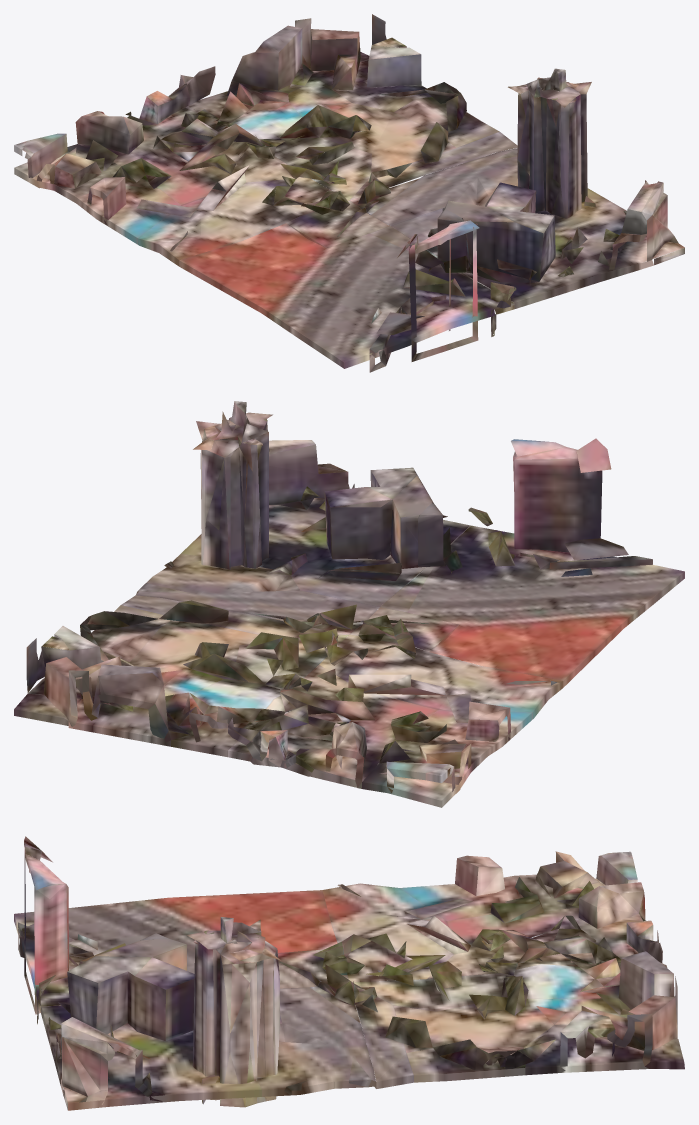
The picture shows the model from 3 angles, top to bottom: view 1: azimuth 30°, elevation 25°; view 2: azimuth 150°, elevation 25°; view 3: azimuth 270°, elevation 25°; orthographic projection. The views are drawn at different scales.
Parts seen in each view (by area): view 1: Mesh_0; view 2: Mesh_0; view 3: Mesh_0.
Part boxes in pixels (<box>): Mesh_0: <box>14,14,684,372</box>; Mesh_0: <box>14,401,684,807</box>; Mesh_0: <box>14,836,684,1110</box>.
Bounding box in the file's own units: 266 × 102 × 330.
2 materials, 2 textured.
